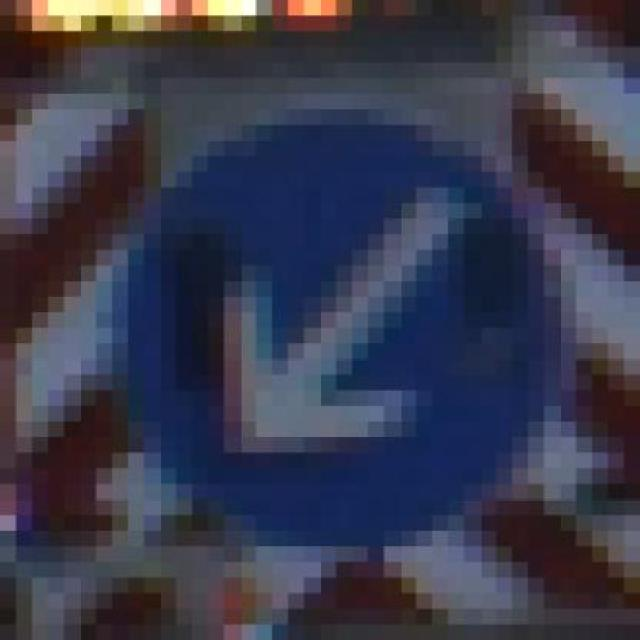Keep-Left: (112, 108, 592, 578)
